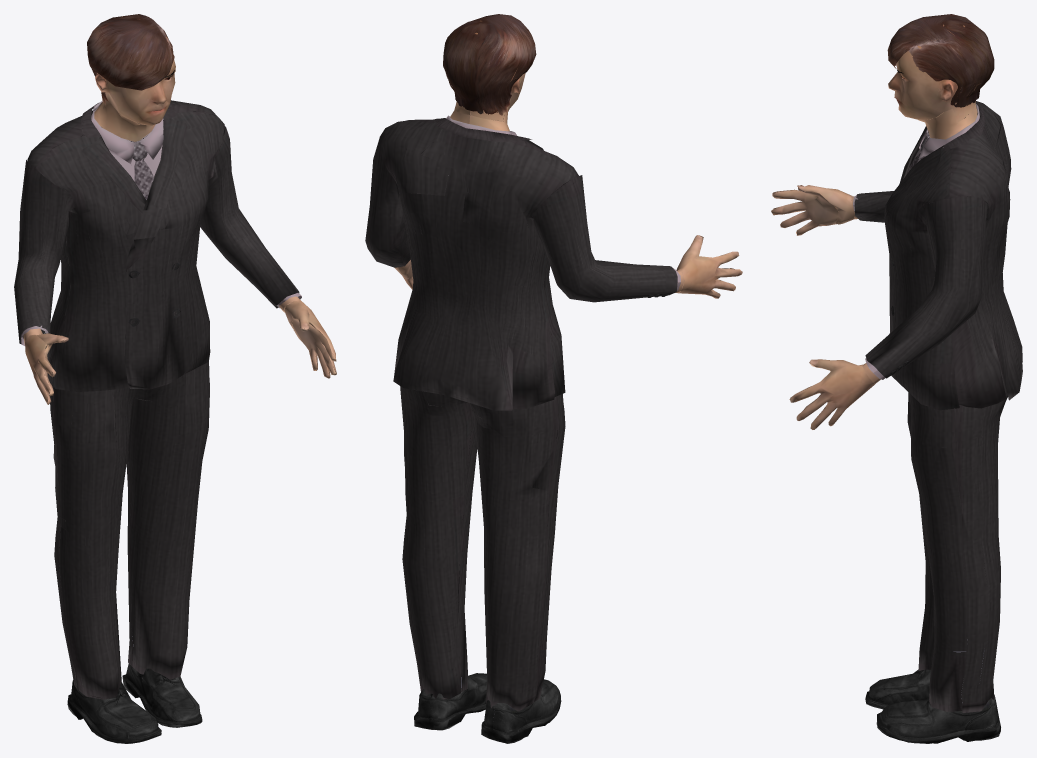
The picture shows the model from 3 angles, left to right: view 1: azimuth 30°, elevation 25°; view 2: azimuth 150°, elevation 25°; view 3: azimuth 270°, elevation 25°; orthographic projection.
Parts seen in each view (by area): view 1: Modell; view 2: Modell; view 3: Modell.
Boxes of the visible parts, bbox=[...] form: Modell: bbox=[14, 14, 336, 743]; Modell: bbox=[365, 14, 742, 743]; Modell: bbox=[771, 14, 1022, 743].
Bounding box in the file's own units: 0.8188 × 1.79 × 0.5862.
6 materials, 6 textured.
